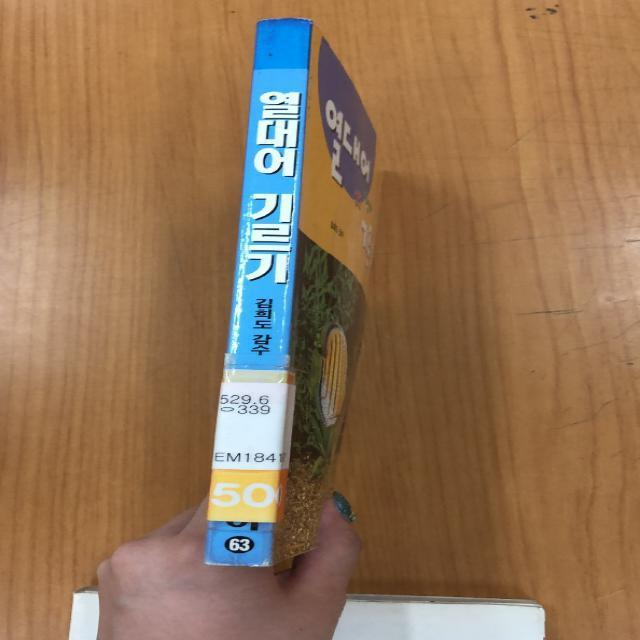Wornout: (200, 554, 277, 570), (255, 17, 316, 26)
